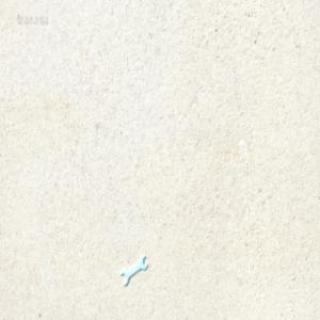Wrenchtrack_idkeyframe: (120, 255, 146, 286)
